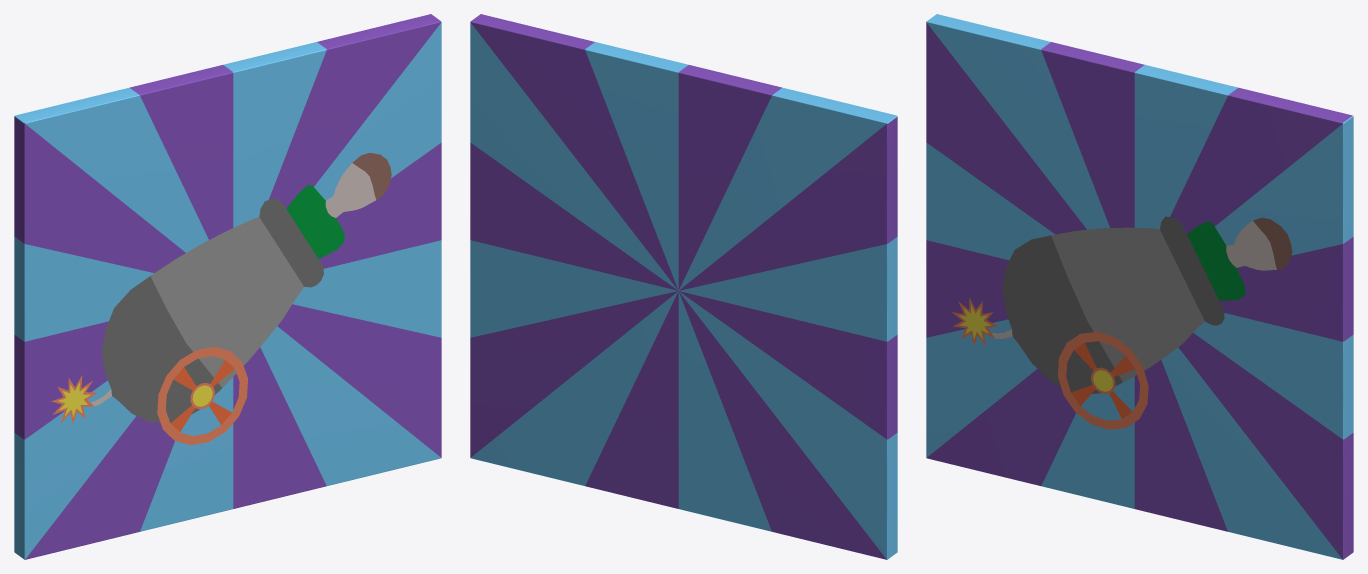
Rendered from Public_14_Poster_circus_4.glb.
3 renders of one model, left to right at view 1: azimuth 30°, elevation 25°; view 2: azimuth 150°, elevation 25°; view 3: azimuth 330°, elevation 25°, orthographic.
Parts seen in each view (by area): view 1: Public_14_Poster_circus_4; view 2: Public_14_Poster_circus_4; view 3: Public_14_Poster_circus_4.
Boxes of the visible parts, x1,y1,x2,y2 form: Public_14_Poster_circus_4: (14, 14, 441, 559); Public_14_Poster_circus_4: (470, 14, 897, 559); Public_14_Poster_circus_4: (926, 14, 1353, 559).
Bounding box in the file's own units: 1.22 × 1.22 × 0.0561.
Materials: 1 (1 with a texture image).
